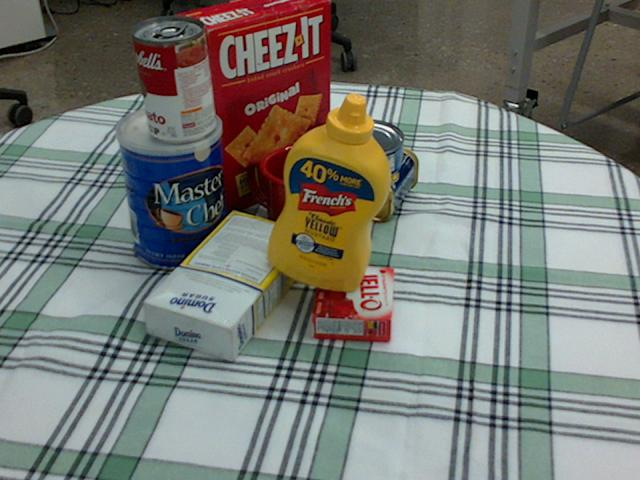cracker_box: (174, 0, 329, 213)
gelatin_box: (311, 264, 392, 340)
master_chef_can: (114, 104, 229, 270)
mug: (248, 142, 346, 245)
mustard_bottle: (267, 92, 390, 291)
potted_meat_can: (309, 133, 415, 219)
sugar_box: (143, 209, 311, 360)
tomato_soup_can: (133, 15, 215, 141)
tuna_fish_can: (326, 119, 403, 179)
